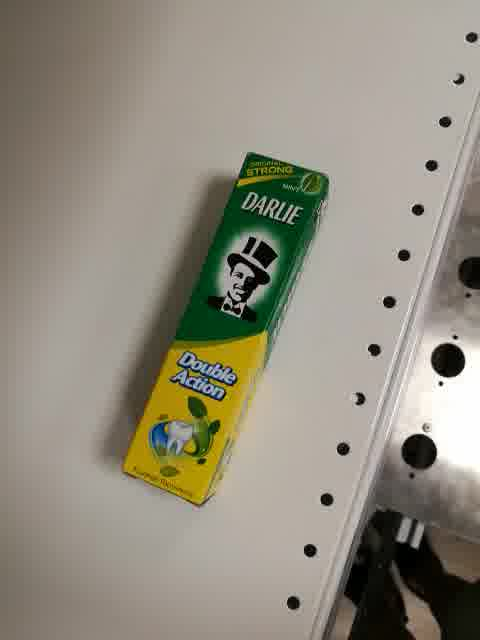toothpaste: (120, 147, 332, 507)
